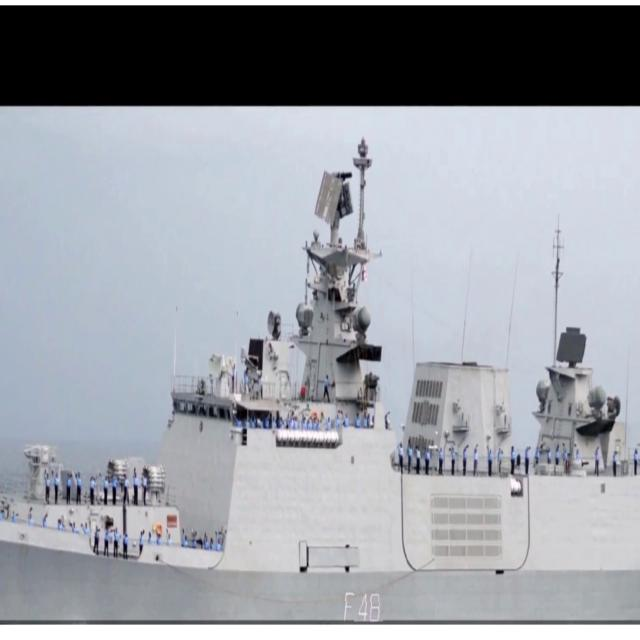OCR: (330, 587, 383, 624)
